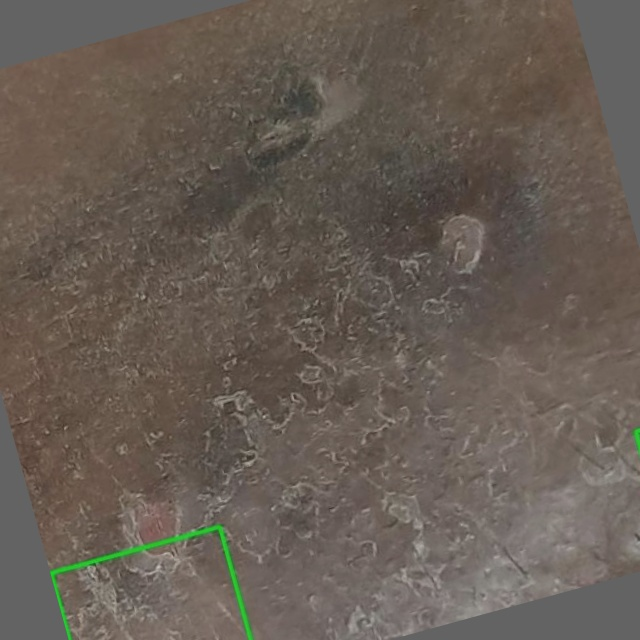Eczema: (51, 527, 250, 639)
